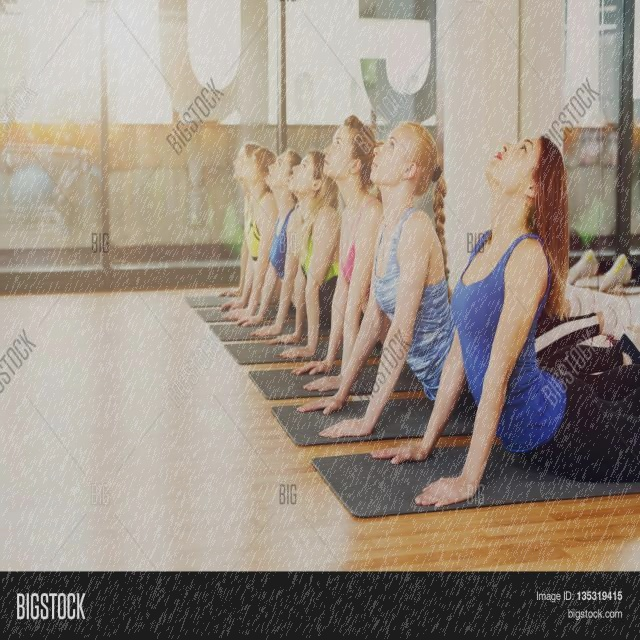pessoa: (294, 120, 634, 442), (368, 134, 640, 511), (290, 112, 386, 394), (265, 149, 343, 356), (230, 148, 306, 329), (233, 147, 304, 338), (216, 141, 262, 305), (564, 248, 640, 293)
